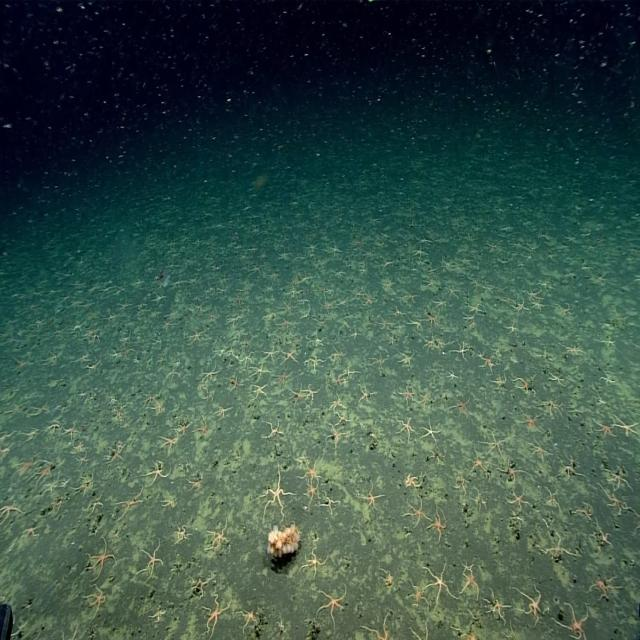brittle-stars: (596, 482, 640, 518), (264, 466, 290, 518), (201, 596, 231, 638), (425, 564, 454, 605), (556, 603, 588, 640), (317, 586, 347, 624), (588, 572, 624, 603), (88, 540, 117, 578), (516, 584, 544, 621), (116, 486, 144, 518), (140, 544, 163, 580), (545, 531, 574, 559), (207, 520, 230, 555), (304, 548, 328, 579), (359, 482, 382, 511), (406, 500, 428, 530), (615, 412, 640, 438), (484, 433, 508, 460), (428, 509, 447, 543), (488, 590, 508, 622), (86, 585, 107, 615), (145, 458, 169, 484), (0, 497, 23, 523), (500, 459, 525, 482), (608, 468, 630, 494), (461, 568, 480, 598), (409, 581, 428, 610), (468, 449, 487, 476), (514, 375, 536, 398), (508, 488, 530, 511), (240, 604, 258, 632), (572, 498, 593, 522), (528, 439, 548, 464), (34, 461, 55, 484), (520, 409, 540, 432), (422, 420, 441, 444), (595, 520, 611, 548), (306, 455, 323, 481), (452, 394, 472, 416), (160, 434, 180, 456), (594, 416, 614, 438), (396, 416, 414, 440), (543, 396, 563, 417), (328, 425, 348, 446), (305, 479, 321, 504), (106, 444, 124, 466), (405, 472, 424, 492), (452, 340, 470, 361), (266, 419, 284, 440), (24, 521, 41, 543), (202, 363, 222, 381), (357, 383, 374, 404), (549, 369, 567, 388), (175, 523, 190, 545), (214, 404, 232, 422), (371, 351, 388, 370), (250, 362, 269, 379), (161, 492, 178, 511), (480, 352, 496, 372), (251, 382, 268, 400), (306, 353, 323, 371), (397, 349, 413, 368), (276, 369, 292, 388), (192, 420, 207, 440), (281, 348, 298, 365), (329, 395, 346, 412), (229, 375, 245, 393), (188, 327, 204, 345), (331, 346, 347, 364), (326, 398, 342, 416), (399, 386, 415, 404), (187, 475, 203, 493), (290, 385, 304, 405), (304, 384, 320, 401), (491, 375, 507, 392), (525, 285, 542, 301), (418, 390, 433, 408), (424, 310, 439, 328), (466, 301, 482, 317), (264, 346, 279, 363), (404, 287, 419, 304), (378, 277, 393, 294), (153, 399, 167, 417), (176, 419, 190, 437), (513, 298, 528, 314), (242, 350, 256, 366), (118, 298, 132, 314), (65, 423, 79, 439), (408, 316, 422, 332), (300, 271, 314, 286), (447, 369, 460, 384), (77, 452, 89, 468), (74, 441, 86, 455)
